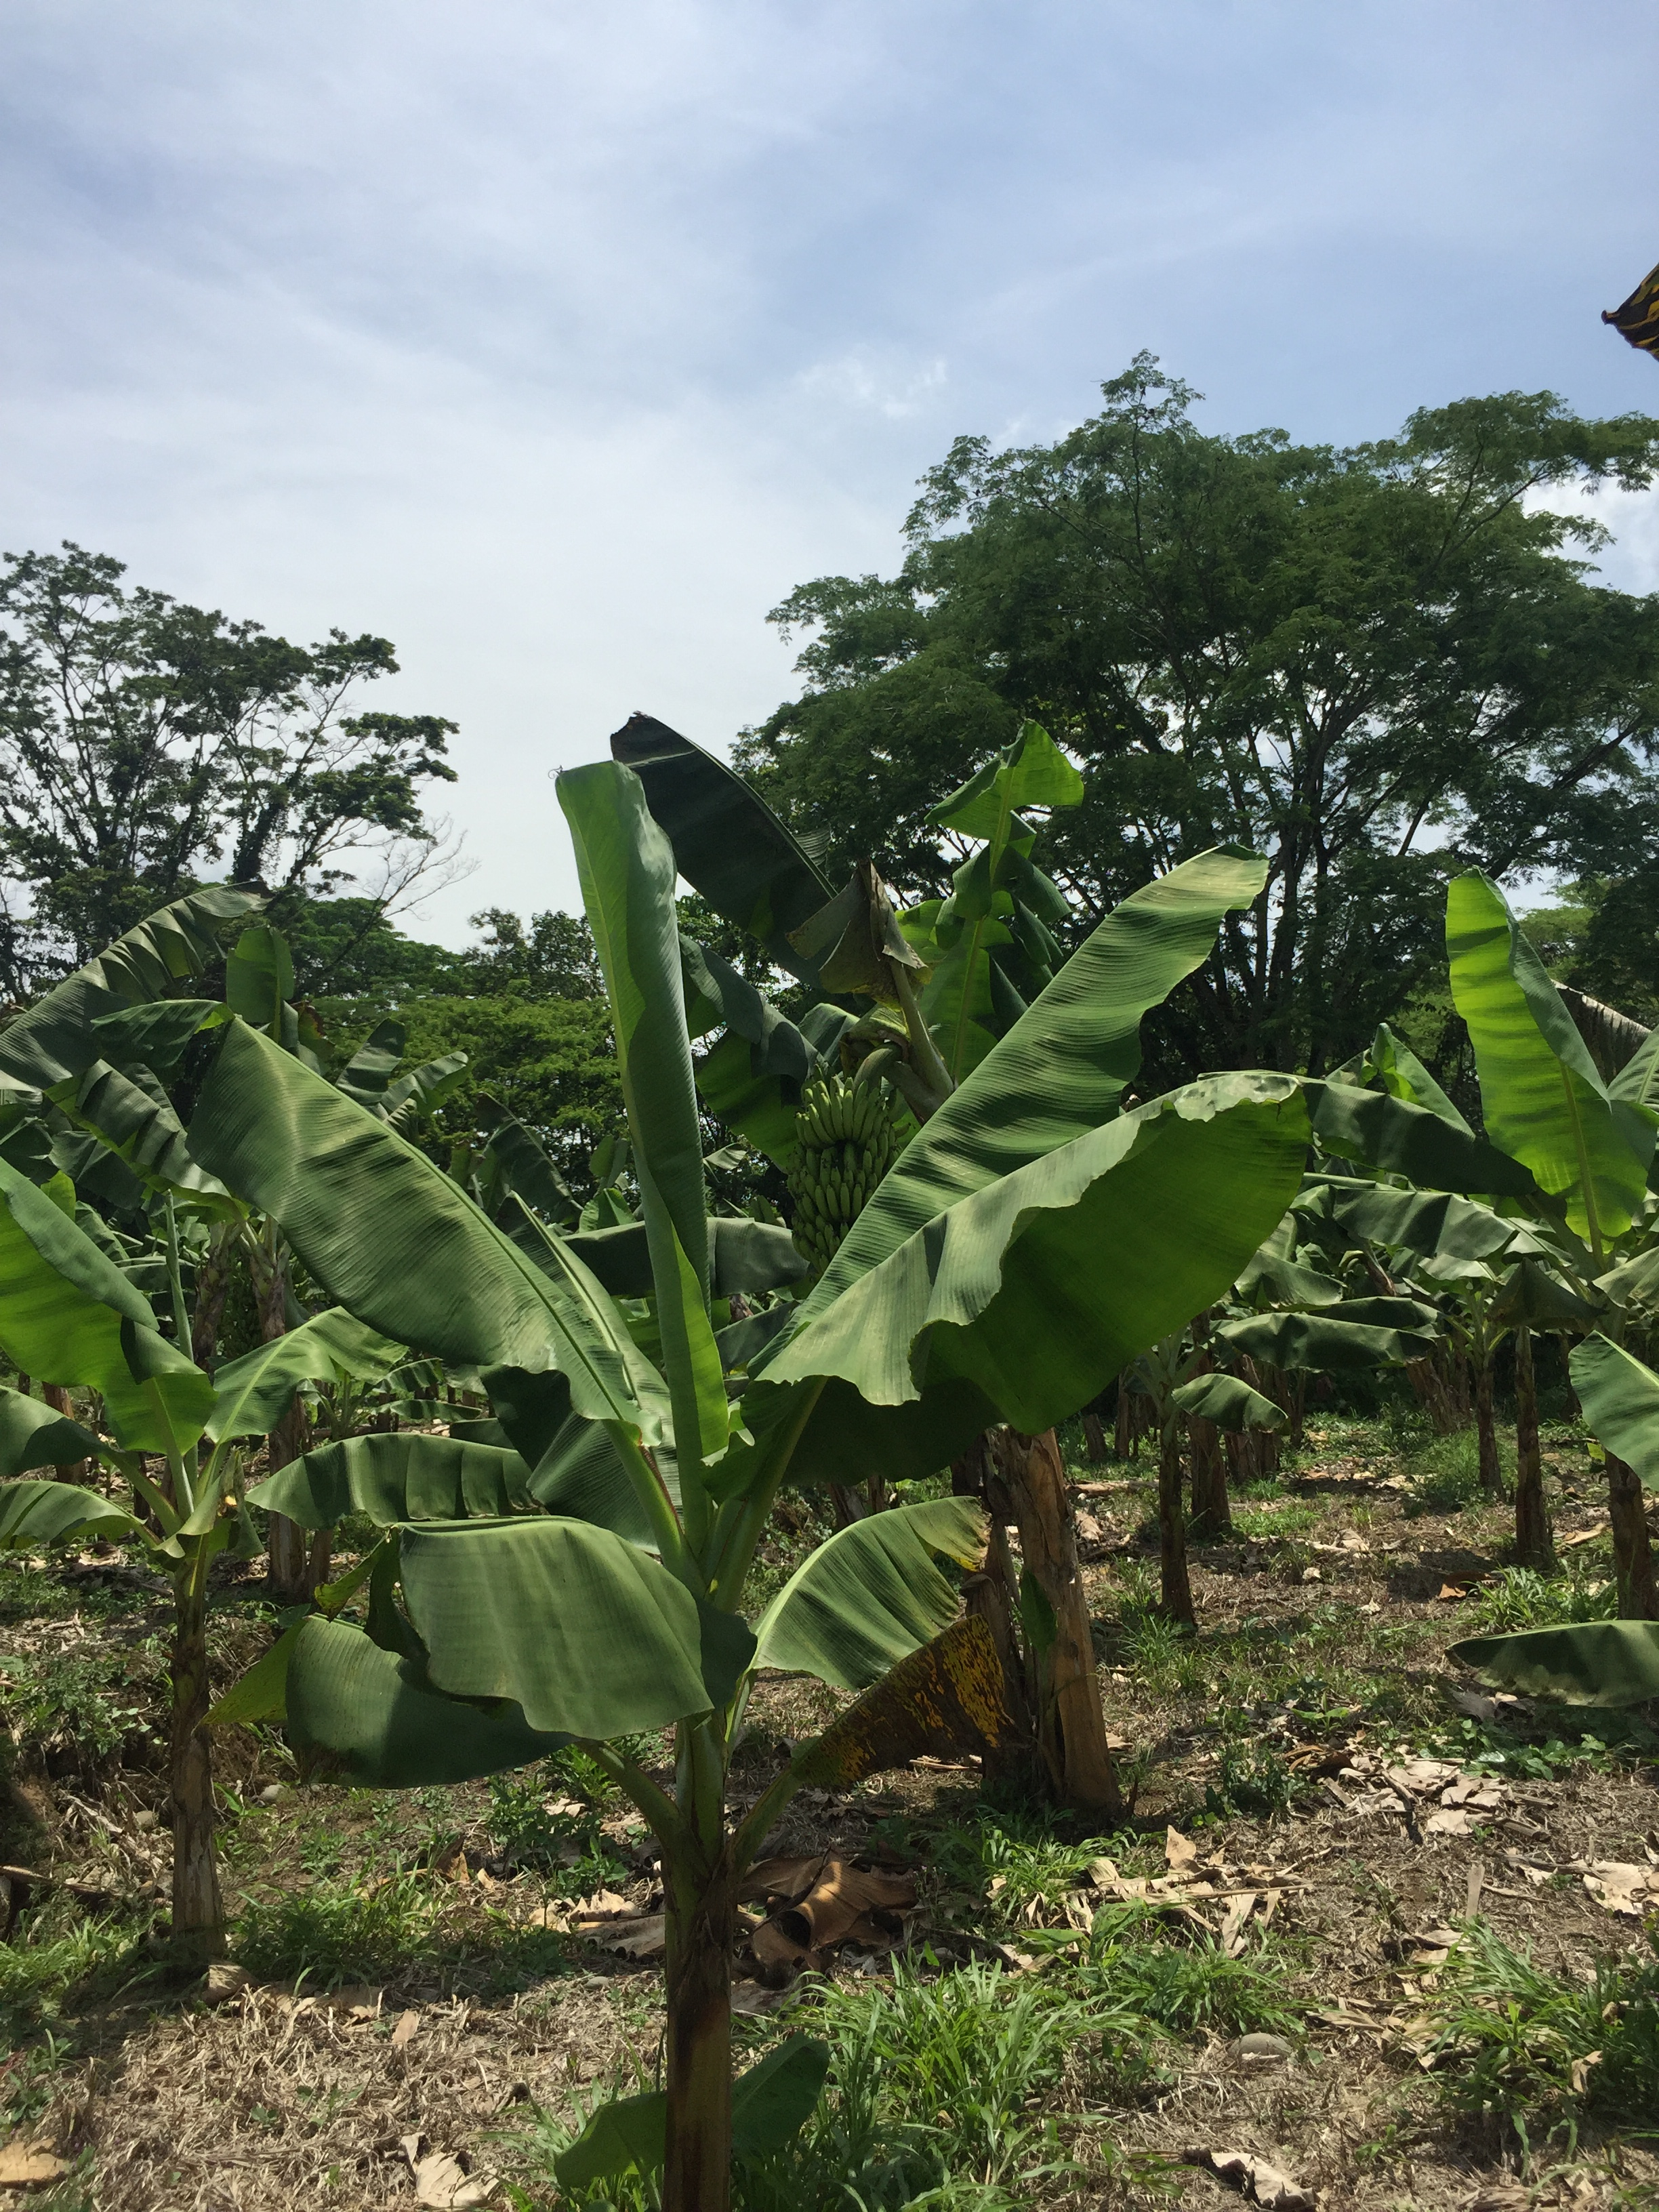candleleafs: (556, 765, 734, 1522)
